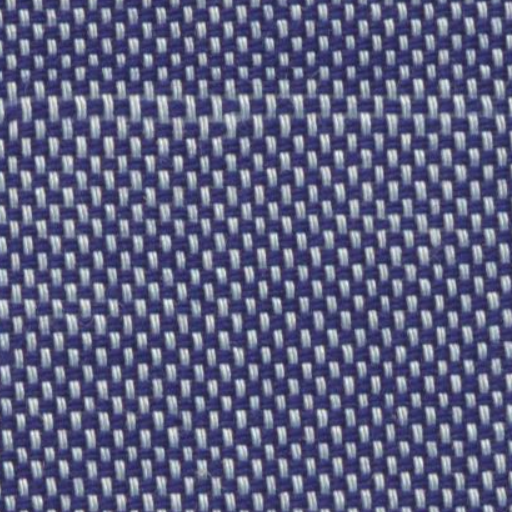TuoSha: (17, 62, 494, 170)
